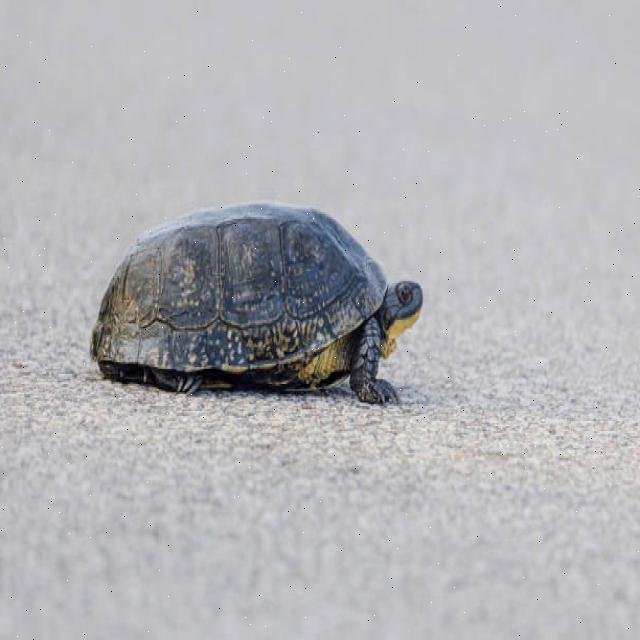tortoise: (72, 204, 432, 434)
